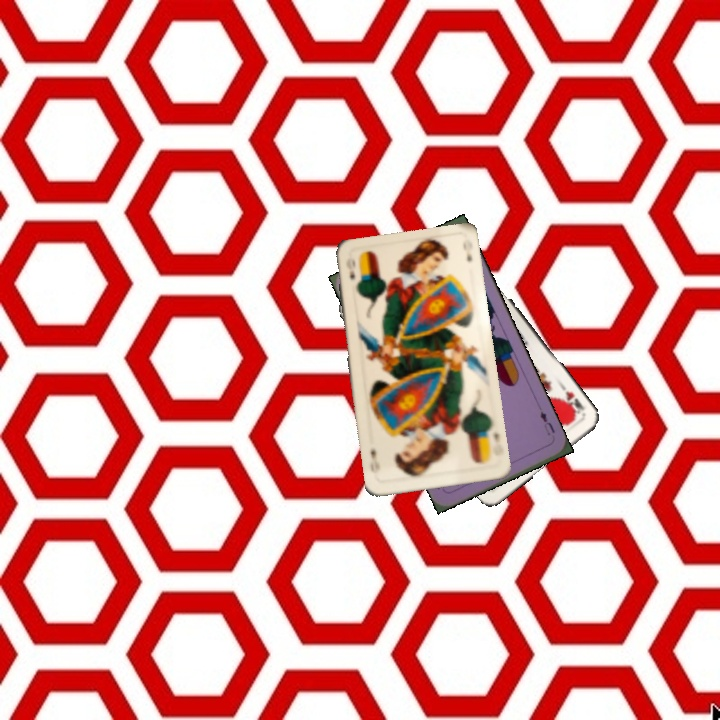EO: (482, 424, 505, 459), (342, 253, 357, 282)
EU: (536, 407, 558, 438)
HK: (559, 387, 587, 418)
